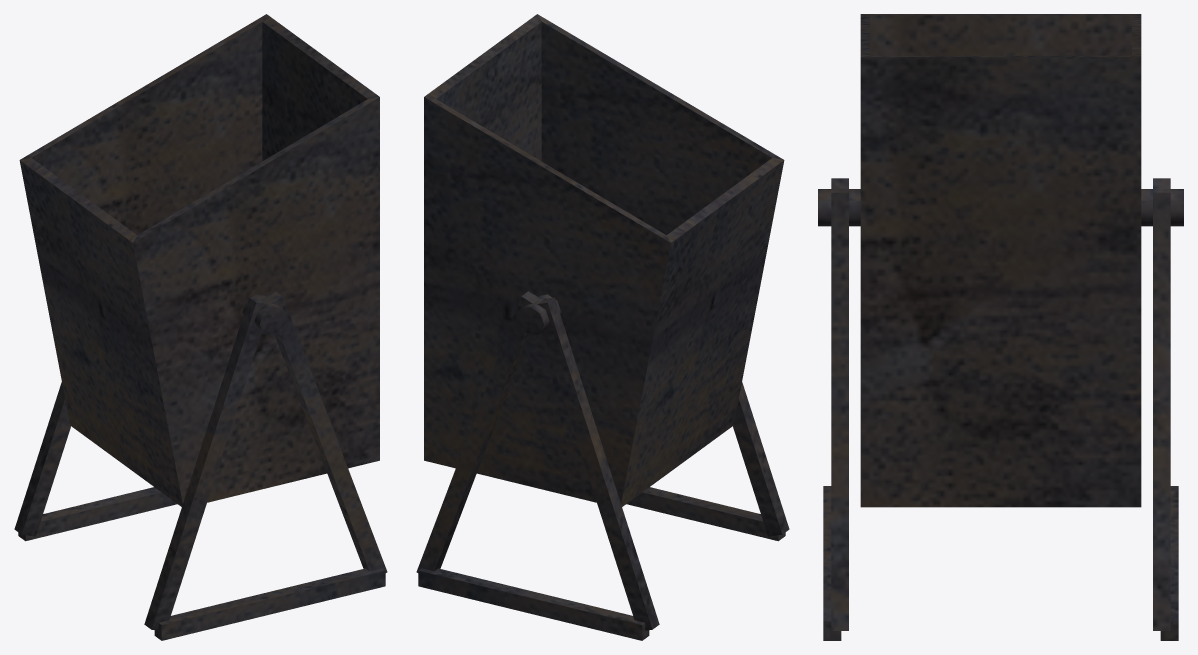
File: Trashcan.fbx
3 views of the same model, side by side, from view 1: azimuth 30°, elevation 25°; view 2: azimuth 150°, elevation 25°; view 3: azimuth 270°, elevation 25° (orthographic). The views are drawn at different scales.
Parts seen in each view (by area): view 1: Trashcan; view 2: Trashcan; view 3: Trashcan.
Part boxes in pixels (<box>): Trashcan: <box>14,14,387,640</box>; Trashcan: <box>416,14,789,640</box>; Trashcan: <box>818,14,1183,640</box>.
Bounding box in the file's own units: 26.42 × 48.65 × 27.35.
